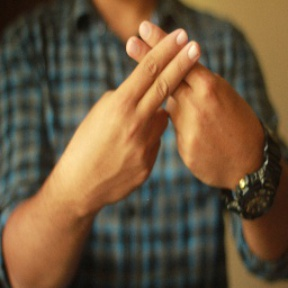F: (108, 14, 224, 144)
